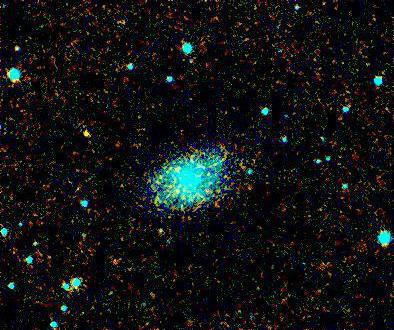star: (144, 217, 174, 247)
